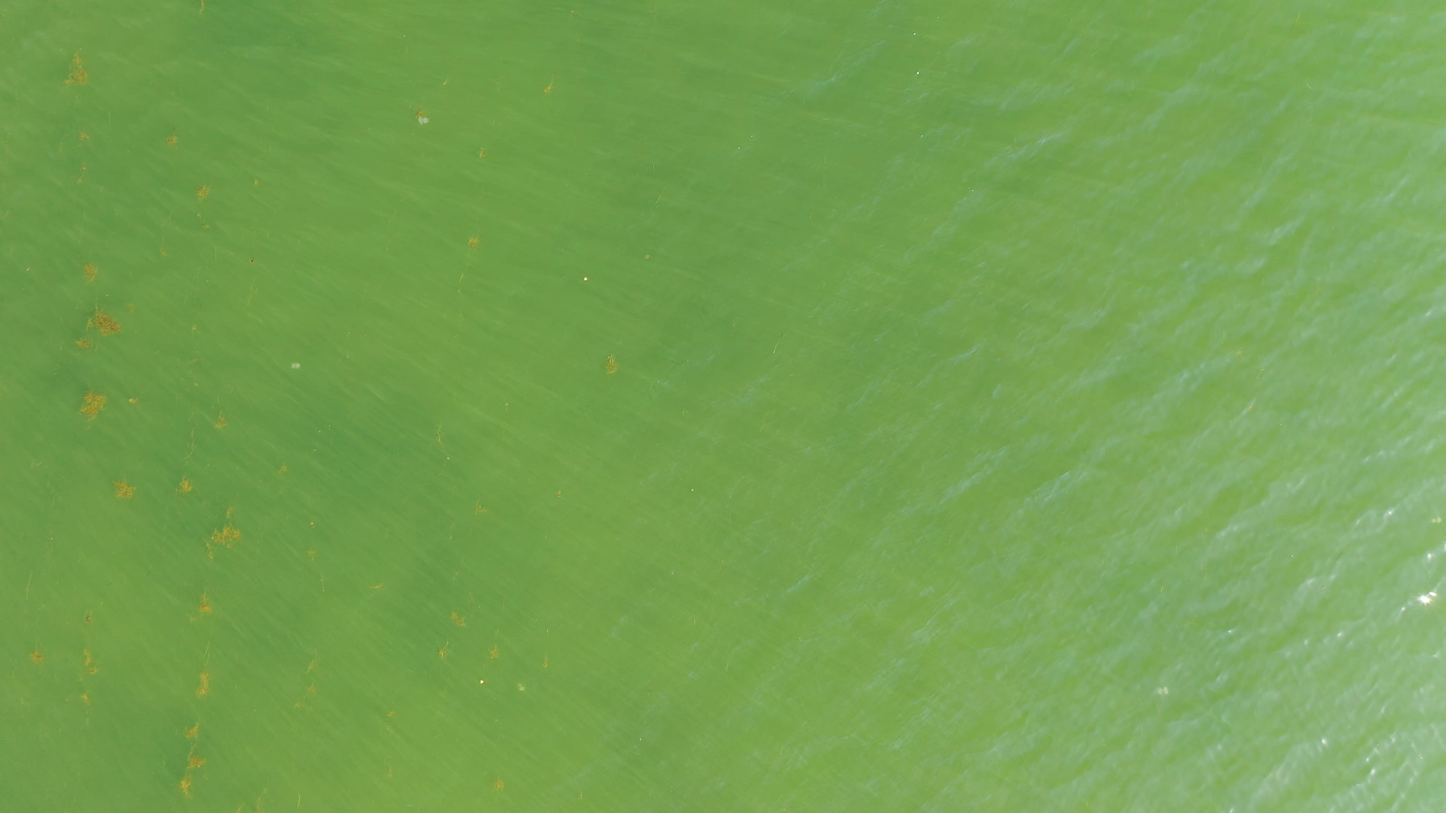meduse: (419, 116, 430, 126), (1159, 686, 1171, 695), (291, 362, 300, 369), (517, 684, 524, 691)
